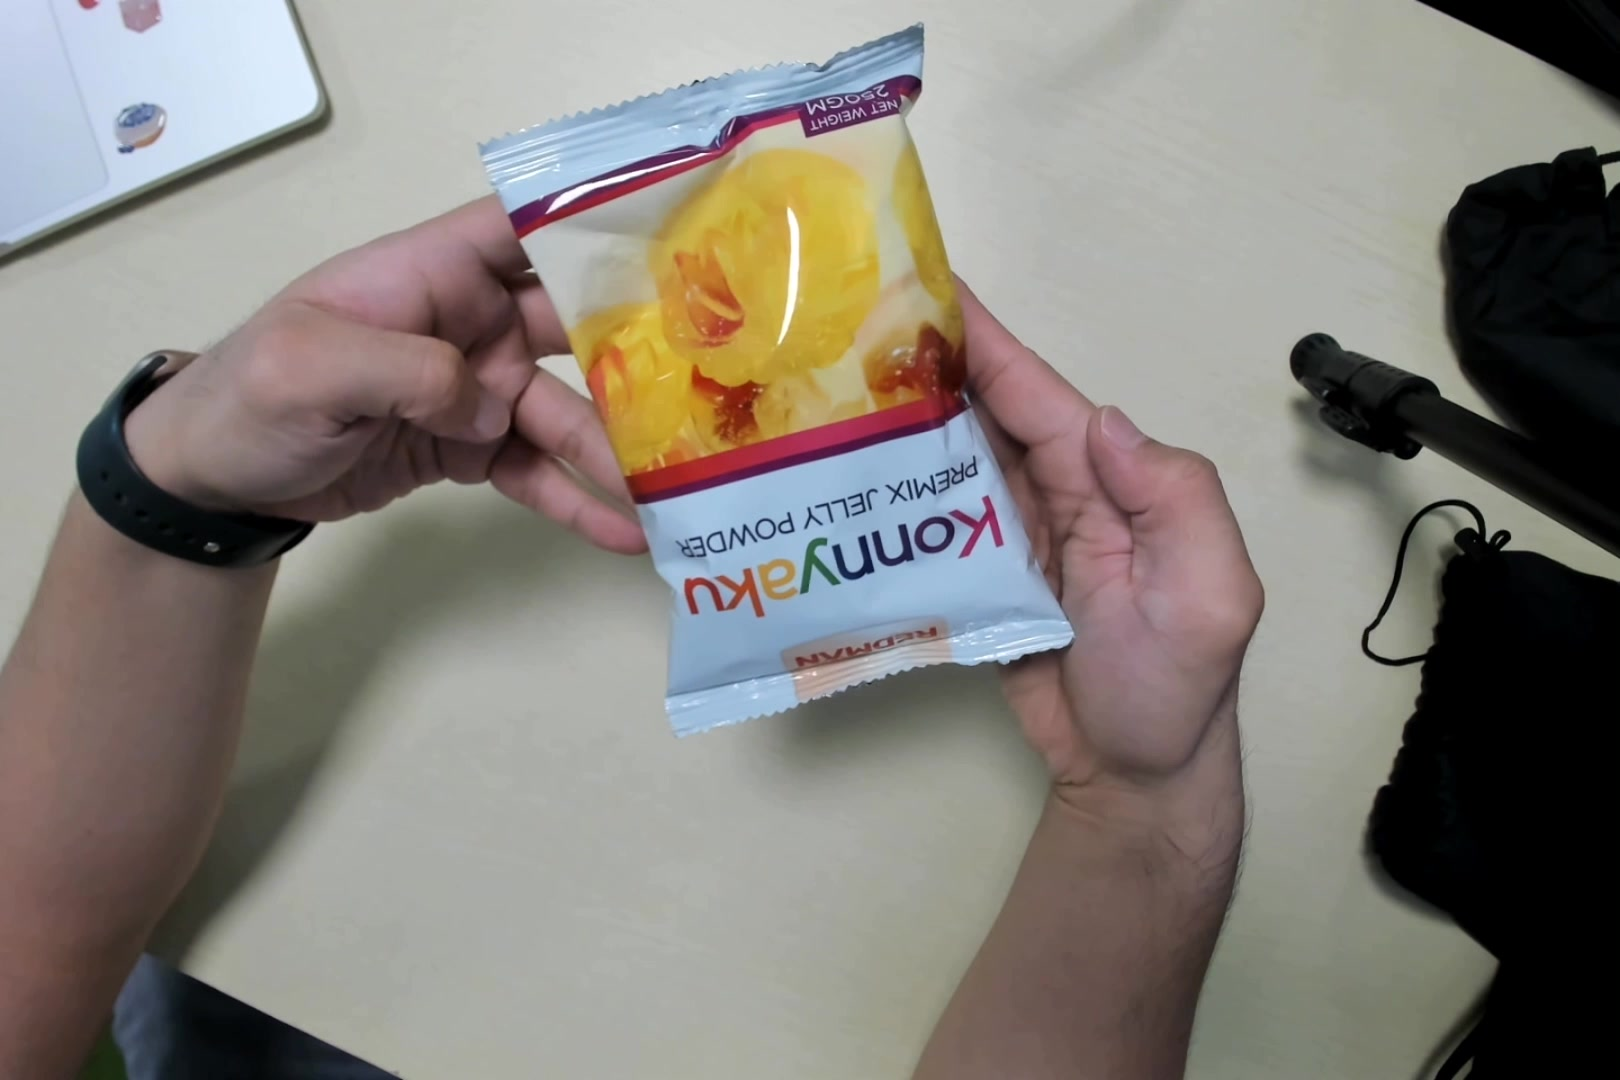OtherBakingNeeds_200-299g_Halal_NonHealthy: (485, 23, 1075, 733)
